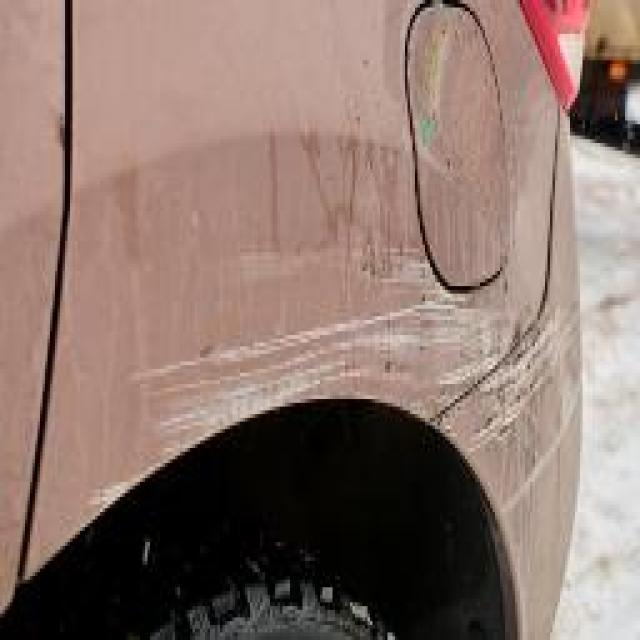Bumper: (421, 249, 592, 640)
Fender: (125, 105, 548, 414)
